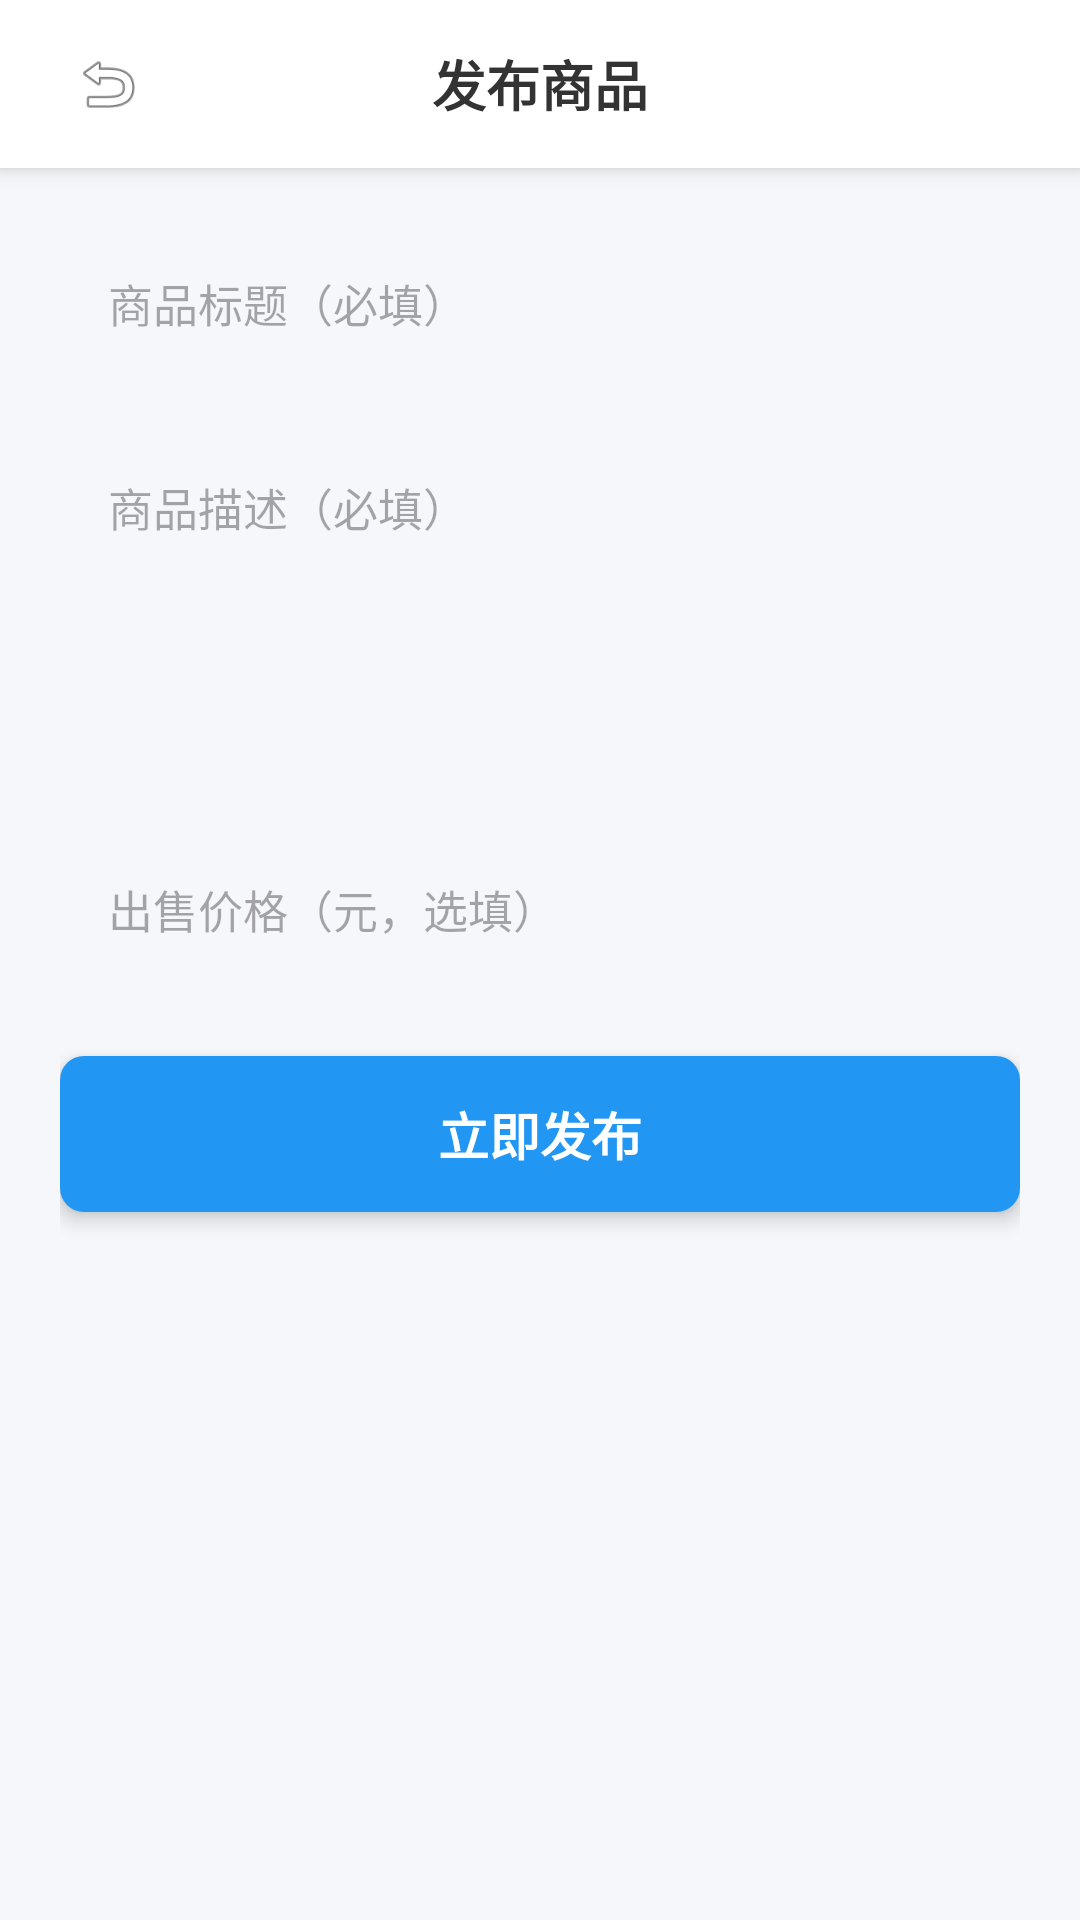

Point at icon controls on the screen. Image size 1080px×1920px, points as [x,y].
revert: [109,84]
